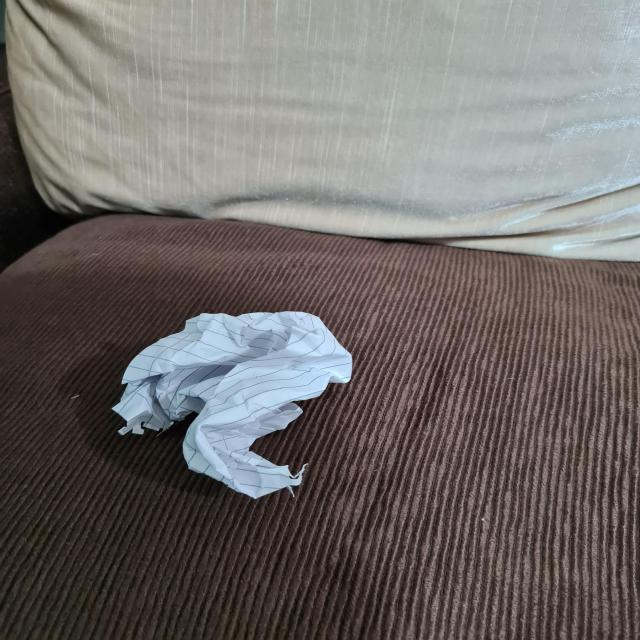cardboard paper: (109, 308, 353, 499)
